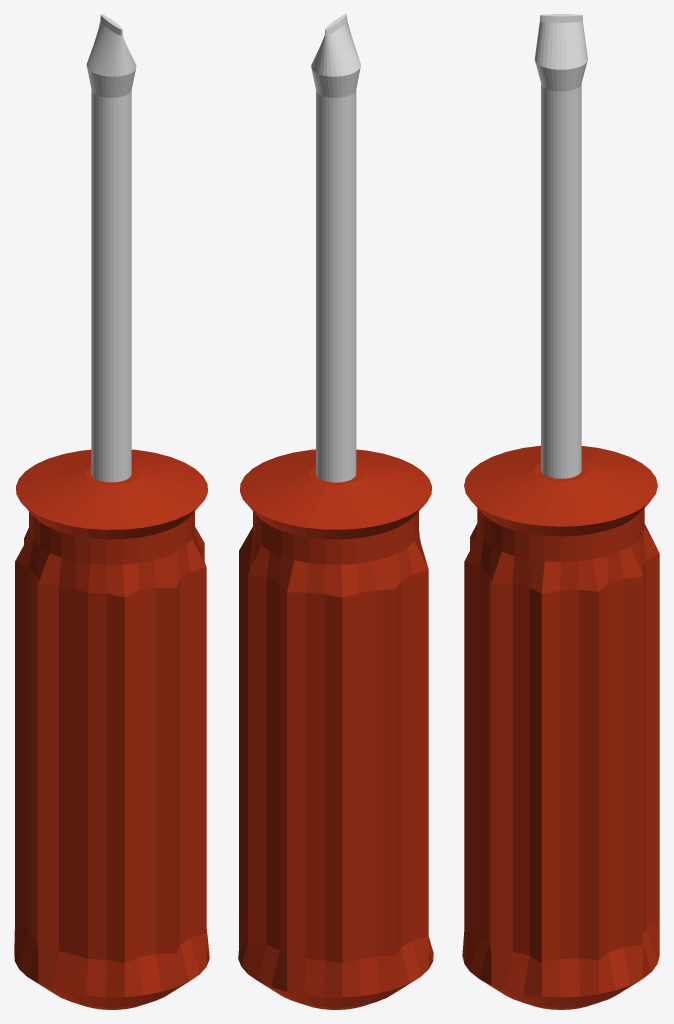
The model's file is Screwdriver2.fbx.
3 renders of one model, left to right at view 1: azimuth 30°, elevation 25°; view 2: azimuth 150°, elevation 25°; view 3: azimuth 270°, elevation 25°, orthographic.
Parts seen in each view (by area): view 1: Screwdriver_top; view 2: Screwdriver_top; view 3: Screwdriver_top.
Part boxes in pixels (<box>): Screwdriver_top: <box>14,14,209,1009</box>; Screwdriver_top: <box>238,14,433,1009</box>; Screwdriver_top: <box>462,14,659,1009</box>.
Bounding box in the file's own units: 50.21 × 274 × 50.21.
